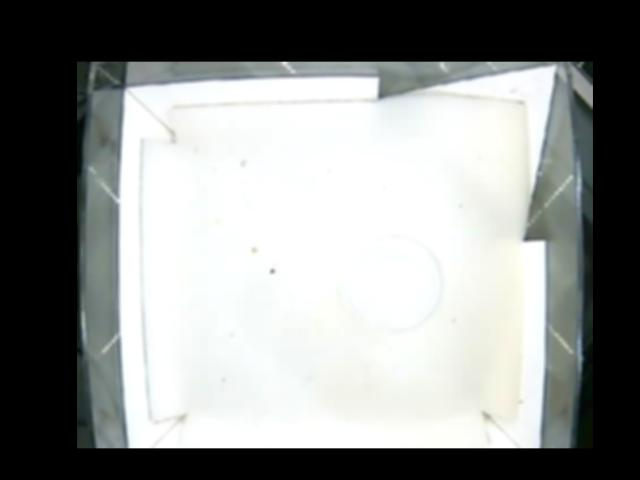Bottle: (344, 233, 444, 331)
